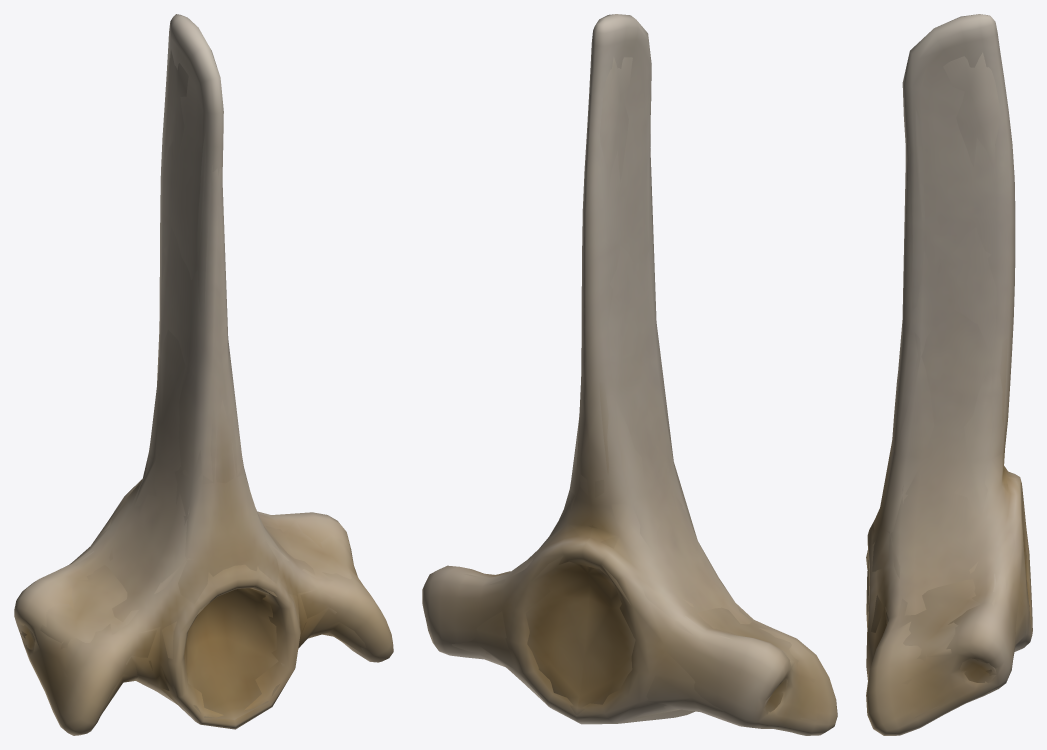
The model's file is vertebrae thoracicae 05.fbx.
The picture shows the model from 3 angles, left to right: view 1: azimuth 30°, elevation 25°; view 2: azimuth 150°, elevation 25°; view 3: azimuth 270°, elevation 25°; orthographic projection. The views are drawn at different scales.
Visible parts, largest first — view 1: vertebrae thoracicae 05, vertebrae thoracicae 05 low; view 2: vertebrae thoracicae 05, vertebrae thoracicae 05 low; view 3: vertebrae thoracicae 05, vertebrae thoracicae 05 low.
Boxes of the visible parts, <box> form: vertebrae thoracicae 05: <box>14,14,393,735</box>; vertebrae thoracicae 05 low: <box>18,50,366,720</box>; vertebrae thoracicae 05: <box>422,14,837,735</box>; vertebrae thoracicae 05 low: <box>452,57,817,721</box>; vertebrae thoracicae 05: <box>866,14,1032,735</box>; vertebrae thoracicae 05 low: <box>871,52,1032,718</box>.
Size of the model in its own units: 5.1 by 10.03 by 2.25.
Materials: 1 (1 with a texture image).
